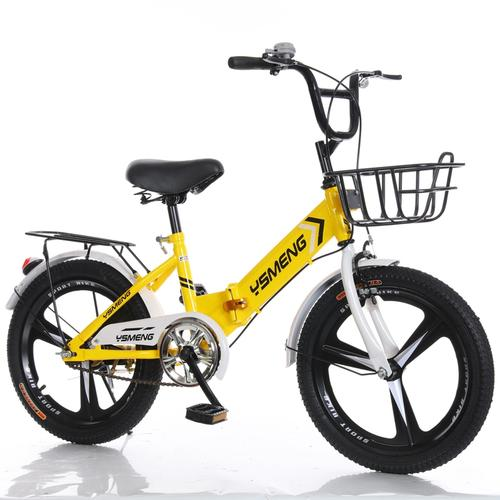单车: (4, 29, 500, 483)
